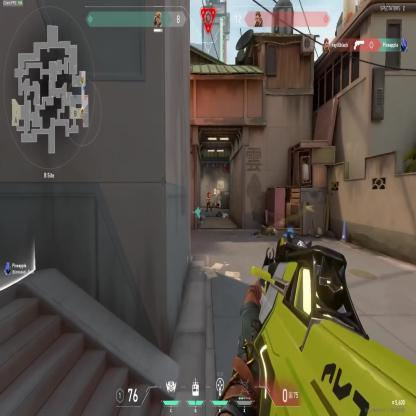enemy: (206, 192, 212, 214)
enemy_head: (207, 192, 209, 196)
